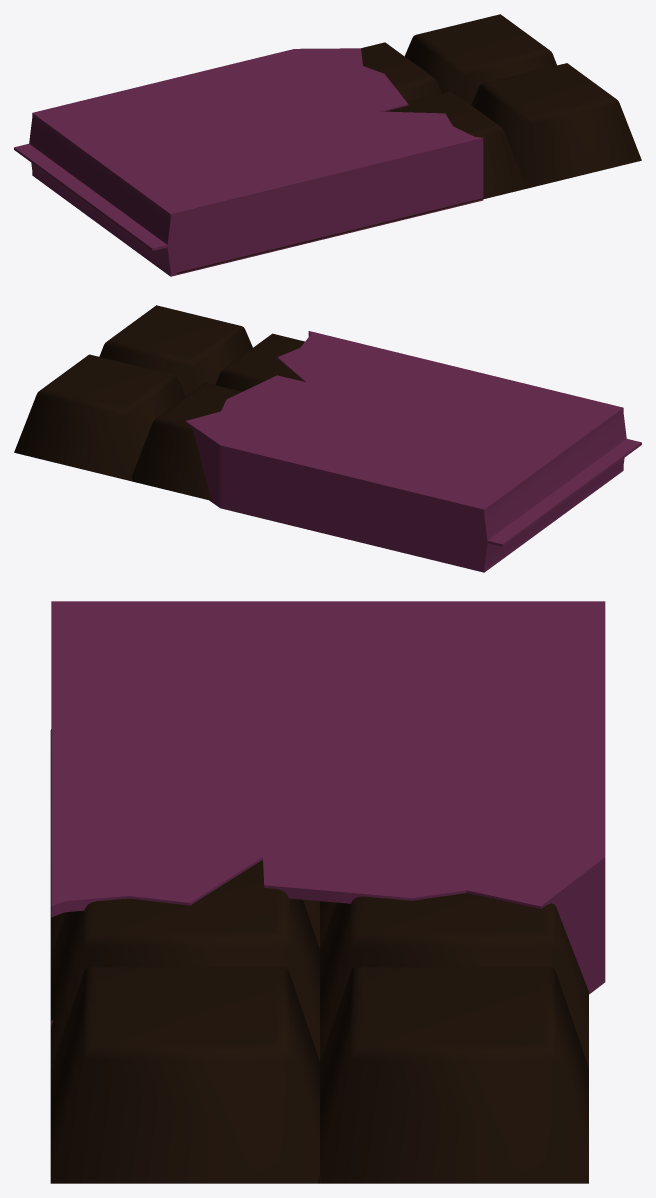
File: chocolate.fbx
3 views of the same model, one above another, from view 1: azimuth 30°, elevation 25°; view 2: azimuth 150°, elevation 25°; view 3: azimuth 270°, elevation 25° (orthographic). The views are drawn at different scales.
Visible parts, largest first — view 1: Plane001, Box008; view 2: Plane001, Box008; view 3: Plane001, Box008.
Boxes of the visible parts, bbox=[...] form: Plane001: bbox=[14, 48, 483, 276]; Box008: bbox=[177, 14, 641, 273]; Plane001: bbox=[185, 331, 641, 572]; Box008: bbox=[14, 305, 304, 500]; Plane001: bbox=[51, 601, 605, 1026]; Box008: bbox=[50, 729, 588, 1183].
Bounding box in the file's own units: 4.16 × 0.5088 × 2.04.
